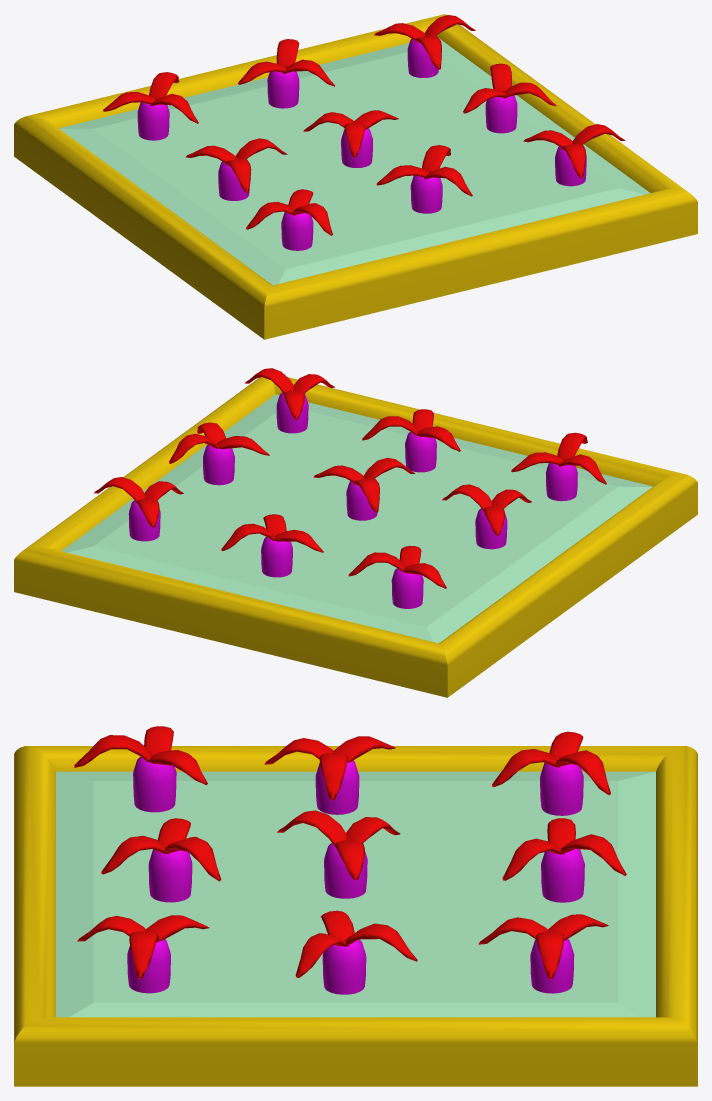
The model's file is Stage_3.fbx.
3 views of the same model, one above another, from view 1: azimuth 30°, elevation 25°; view 2: azimuth 150°, elevation 25°; view 3: azimuth 270°, elevation 25° (orthographic). The views are drawn at different scales.
Parts seen in each view (by area): view 1: Dirt, Bed, Base (×8), Leaf_3 (×8), Leaf_2 (×5), Carrot:Base, Carrot:Leaf_2, Carrot:Leaf_3; view 2: Dirt, Bed, Base (×8), Leaf_3 (×8), Leaf_2 (×2), Carrot:Base, Carrot:Leaf_3, Leaf_1; view 3: Dirt, Bed, Base (×8), Leaf_3 (×8), Leaf_2 (×8), Leaf_1 (×8), Carrot:Base, Carrot:Leaf_3, Carrot:Leaf_2, Carrot:Leaf_1.
Boxes of the visible parts, x1,y1,x2,y2 form: Dirt: (59,38,650,285); Bed: (14,14,697,339); Base (×8): (137,71,586,250); Leaf_3 (×8): (149,39,625,235); Leaf_2 (×5): (150,94,586,229); Carrot:Base: (407,38,438,77); Carrot:Leaf_2: (415,35,441,69); Carrot:Leaf_3: (424,15,475,35); Dirt: (61,394,652,643); Bed: (14,377,697,697); Base (×8): (203,392,577,608); Leaf_3 (×8): (169,368,587,576); Leaf_2 (×2): (353,454,606,512); Carrot:Base: (128,500,160,541); Carrot:Leaf_3: (94,477,145,502); Leaf_1: (216,436,269,455); Dirt: (56,771,655,1017); Bed: (14,746,697,1086); Base (×8): (127,757,584,994); Leaf_3 (×8): (74,735,626,978); Leaf_2 (×8): (77,726,564,977); Leaf_1 (×8): (145,731,583,941); Carrot:Base: (530,939,574,993); Carrot:Leaf_3: (536,931,564,979); Carrot:Leaf_2: (478,917,547,944); Carrot:Leaf_1: (547,914,608,940).
Size of the model in its own units: 4.24 by 1.03 by 4.24.
